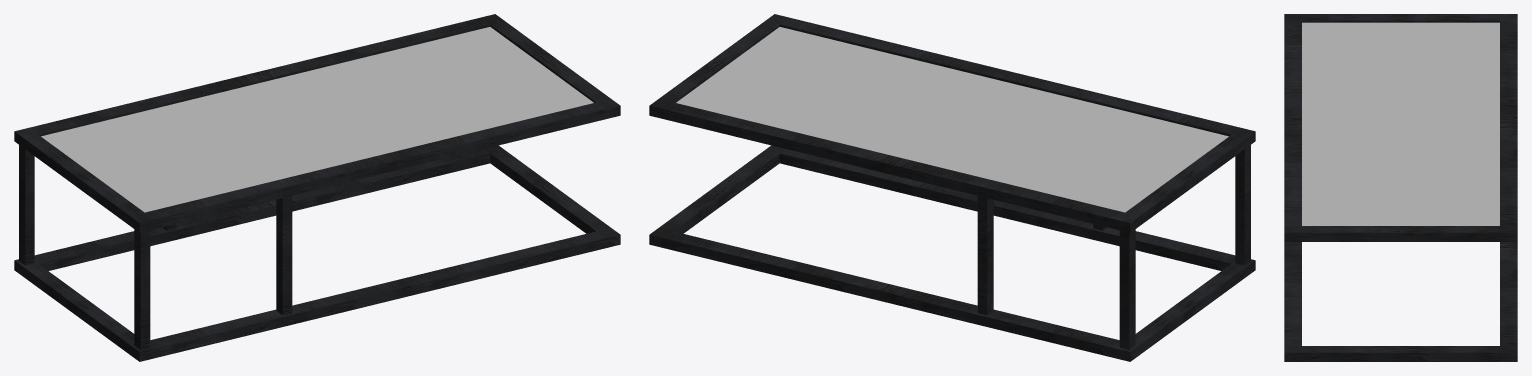
The model's file is metal_and_glass_coffee_table.glb.
3 renders of one model, left to right at view 1: azimuth 30°, elevation 25°; view 2: azimuth 150°, elevation 25°; view 3: azimuth 270°, elevation 25°, orthographic. The views are drawn at different scales.
Visible parts, largest first — view 1: Model; view 2: Model; view 3: Model.
Boxes of the visible parts, bbox=[...] form: Model: bbox=[14, 14, 620, 361]; Model: bbox=[649, 14, 1255, 361]; Model: bbox=[1284, 14, 1517, 361].
Size of the model in its own units: 1981 by 547 by 894.
2 materials, 1 textured.
